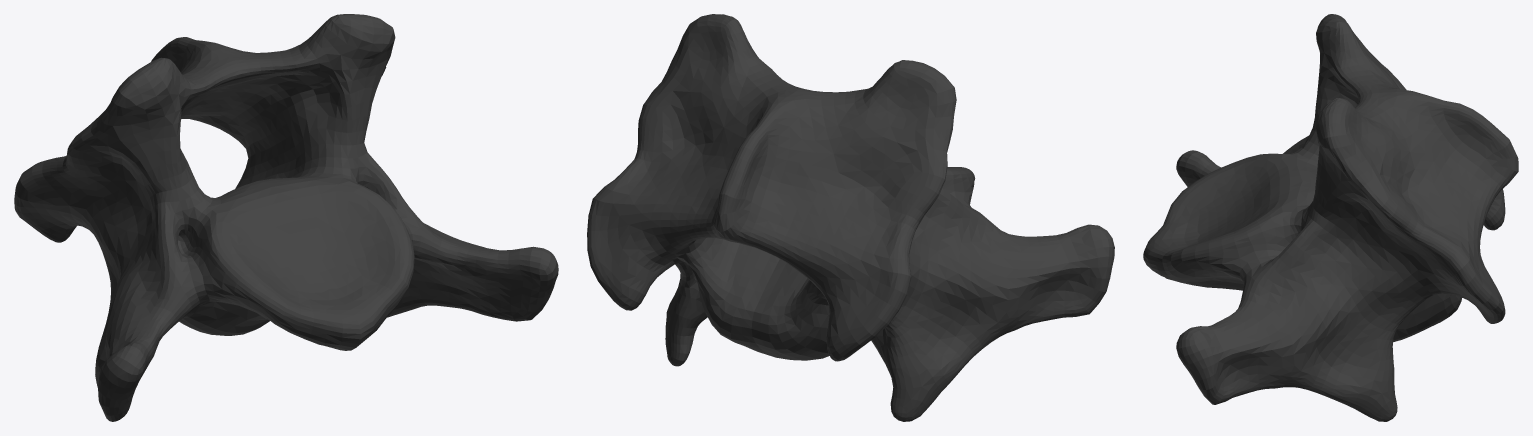
3 renders of one model, left to right at view 1: azimuth 30°, elevation 25°; view 2: azimuth 150°, elevation 25°; view 3: azimuth 270°, elevation 25°, orthographic. The views are drawn at different scales.
Parts seen in each view (by area): view 1: B_C3; view 2: B_C3; view 3: B_C3.
Boxes of the visible parts, x1,y1,x2,y2 form: B_C3: (14, 14, 558, 421); B_C3: (587, 14, 1114, 421); B_C3: (1143, 14, 1518, 421).
Size of the model in its own units: 0.00276 by 0.002 by 0.00221.
1 material, 1 textured.
